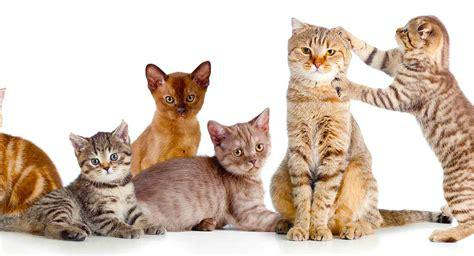cat: (270, 17, 452, 241), (333, 15, 474, 242), (1, 120, 165, 240), (134, 107, 284, 230), (131, 61, 210, 175)
